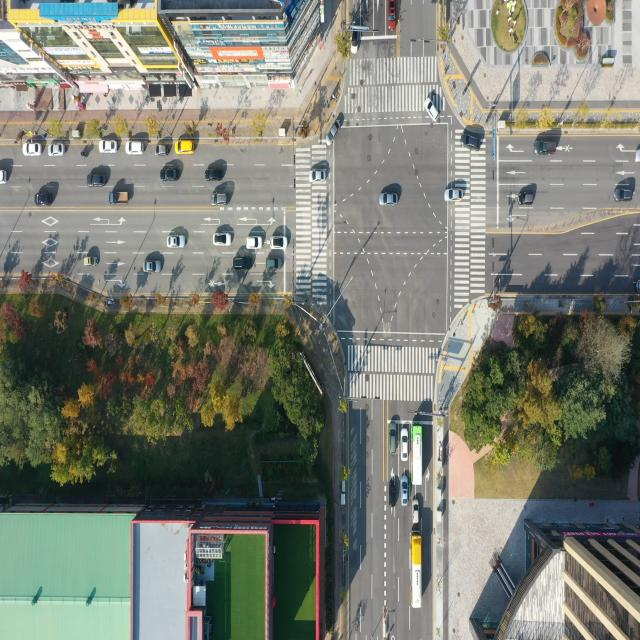car: (425, 98, 440, 124), (327, 116, 340, 144), (445, 186, 466, 202), (175, 139, 196, 155), (389, 419, 398, 454), (350, 26, 360, 55), (462, 135, 479, 152), (24, 142, 44, 156), (534, 141, 554, 155), (35, 191, 52, 207), (90, 173, 108, 188), (380, 191, 398, 206), (168, 236, 187, 250), (127, 141, 146, 155), (162, 169, 181, 183), (400, 429, 408, 462), (144, 261, 162, 275), (100, 140, 118, 154), (166, 239, 184, 253), (400, 476, 408, 507), (206, 169, 225, 182), (519, 191, 535, 206), (214, 234, 232, 247), (616, 188, 634, 201), (389, 475, 396, 508), (272, 236, 288, 250), (50, 142, 66, 156), (412, 496, 420, 524), (310, 170, 327, 183), (246, 237, 262, 250), (212, 192, 228, 205), (235, 257, 252, 269), (388, 0, 395, 29), (84, 256, 100, 266), (268, 258, 280, 270), (157, 145, 169, 156), (0, 169, 7, 184)
large_bus: (409, 530, 424, 609), (411, 426, 423, 485)
small_truck: (107, 189, 128, 204)
